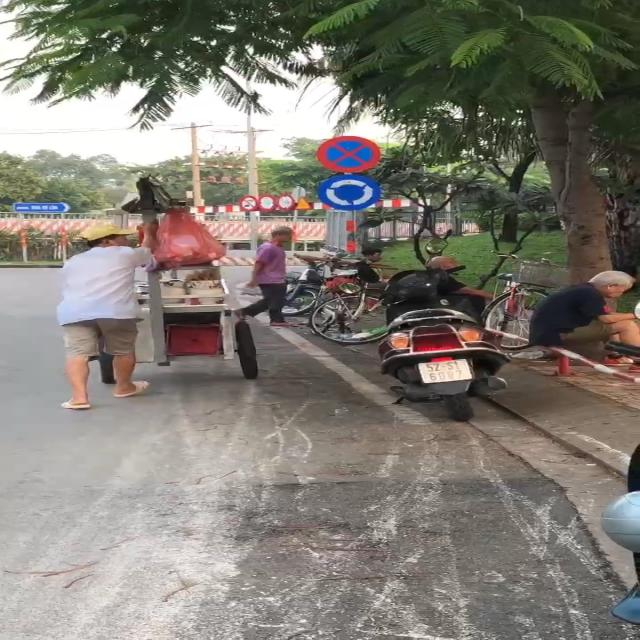Bien bao cam dung xe va do xe: (311, 134, 385, 173)
Bien bao noi giao nhau chay theo vong xuyen: (318, 172, 392, 210)
